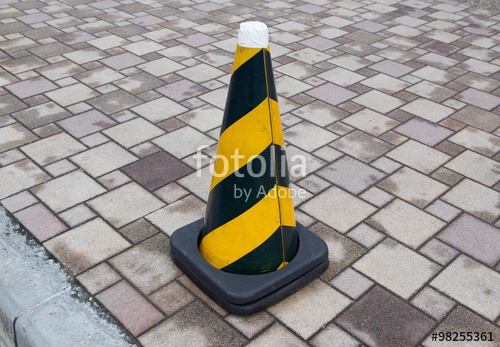blackC: (177, 18, 331, 298)
